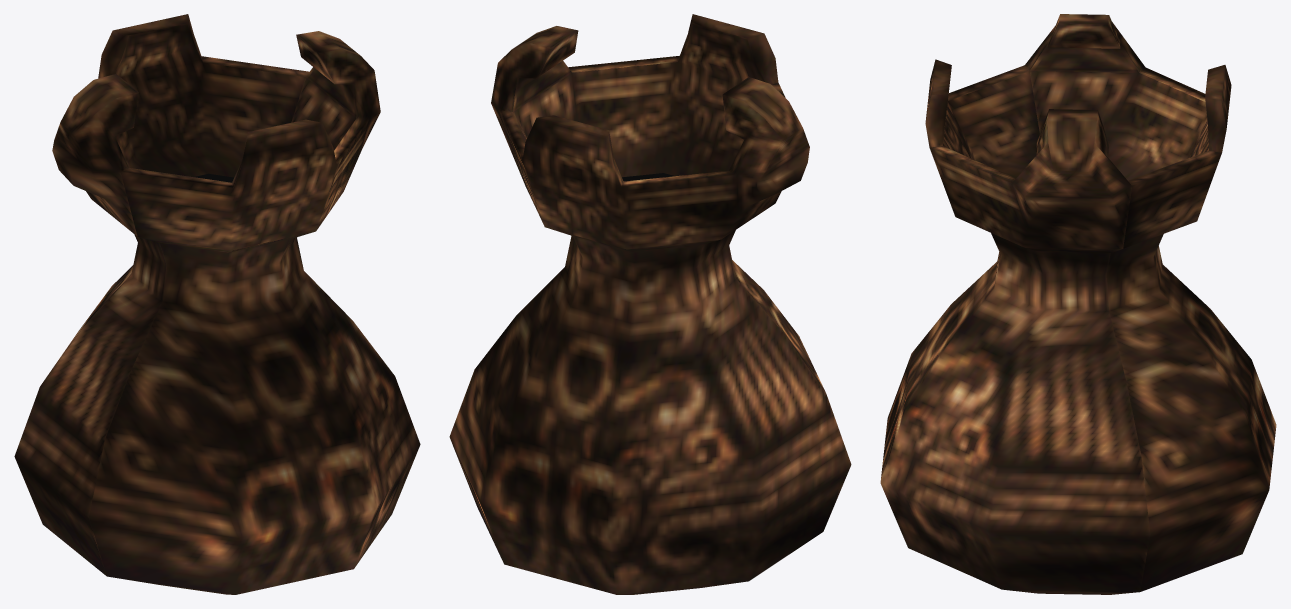
The model's file is test.ico.obj.
3 renders of one model, left to right at view 1: azimuth 30°, elevation 25°; view 2: azimuth 150°, elevation 25°; view 3: azimuth 270°, elevation 25°, orthographic.
Size of the model in its own units: 2.23 by 3.2 by 2.33.
Materials: 1 (1 with a texture image).
